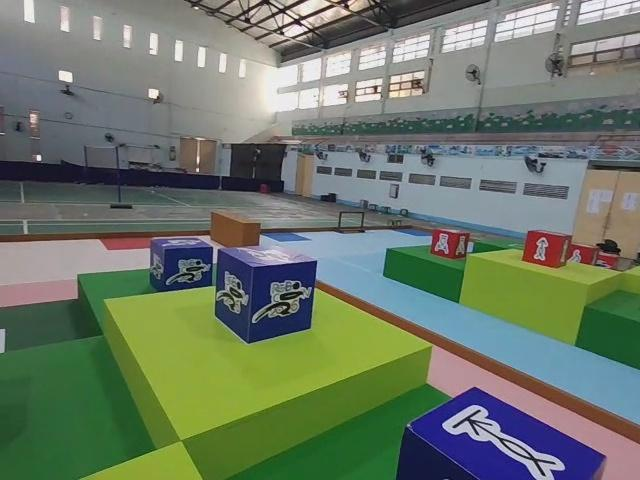R1 Blue: (214, 245, 319, 344), (151, 238, 217, 294)
R2 Real Blue: (397, 387, 605, 480)
